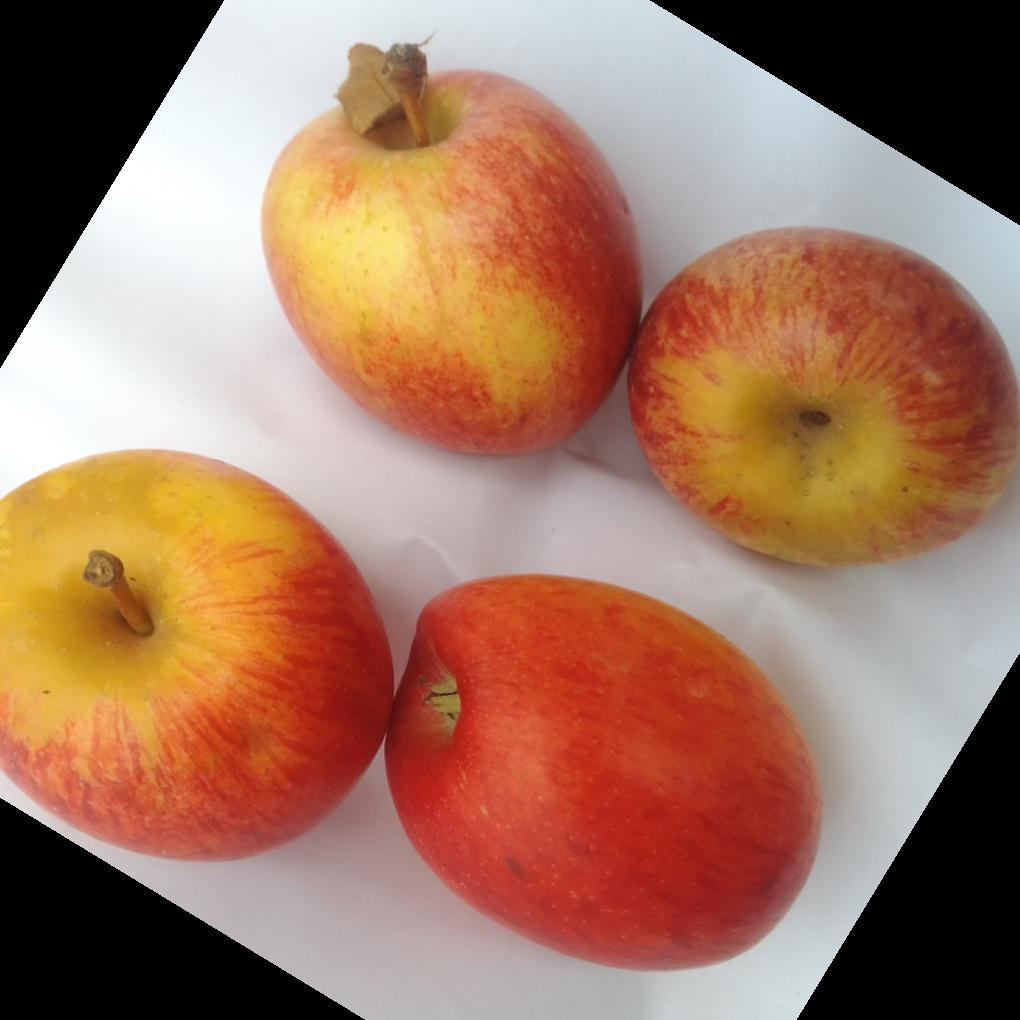FreshGuava: (0, 449, 824, 975), (256, 44, 1020, 572)
